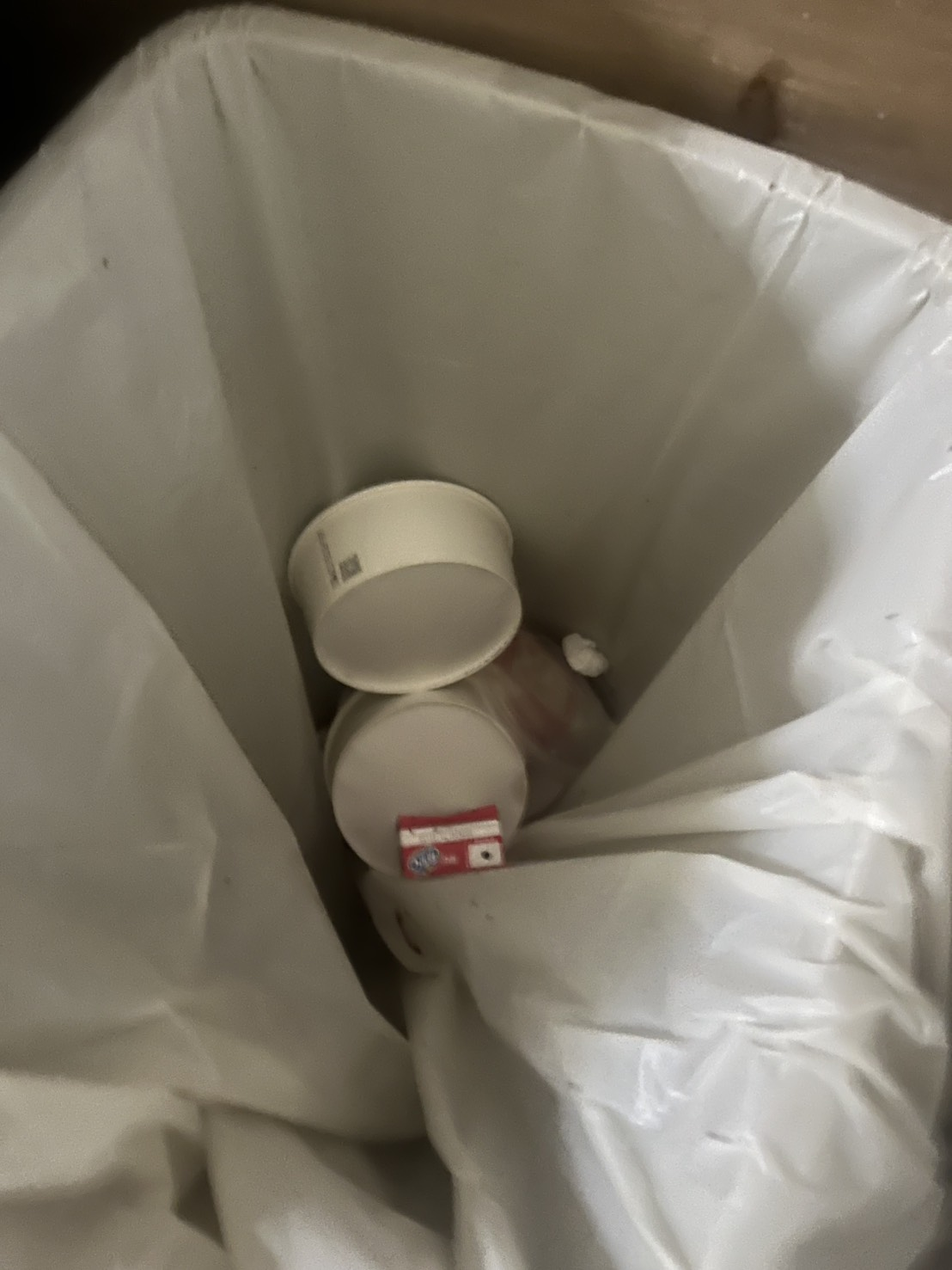paper: (282, 487, 514, 700), (328, 691, 526, 868), (397, 813, 507, 868)
